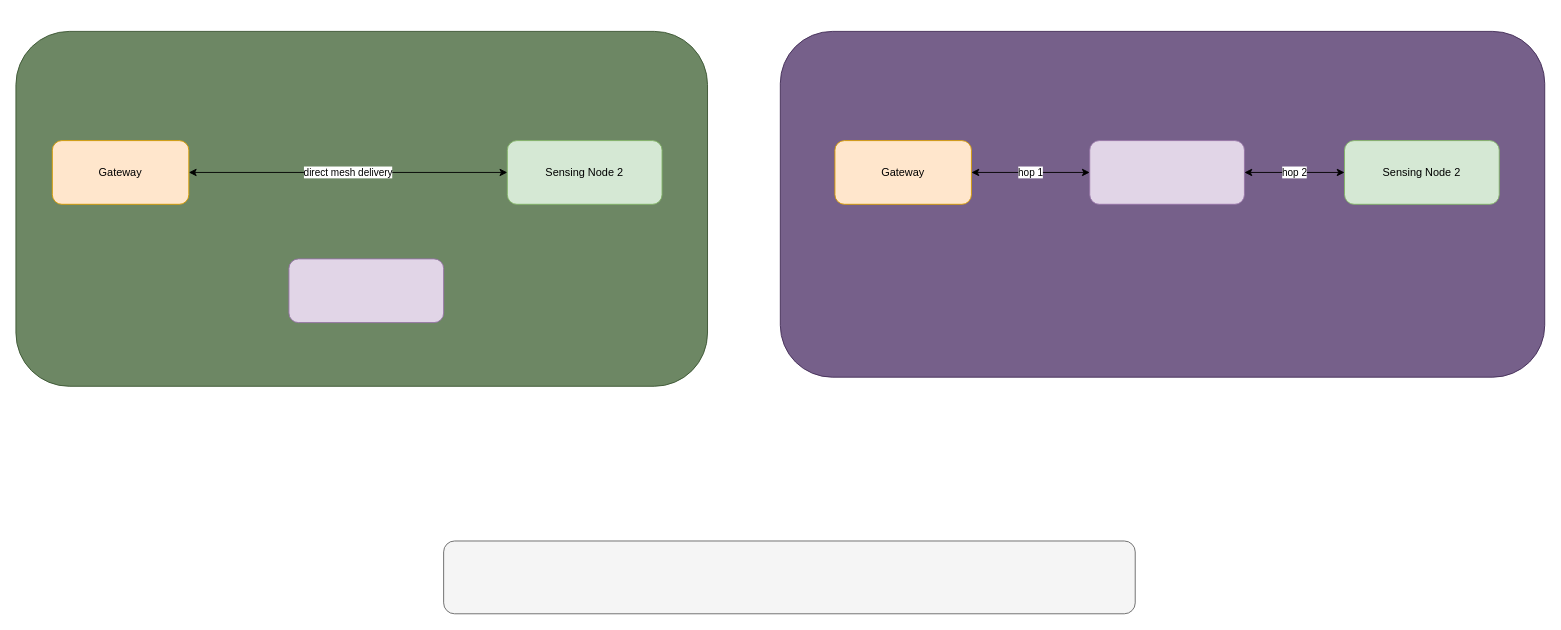
Some shapes in this 1561 by 630 pixel diagram are drawn without their labels. Each missing label, with the centre of its shape:
"Relay (active hop)" belongs at (x=1166, y=172).
"Relay (idle/optional)" belongs at (x=366, y=290).
"Relay improves range/resilience but is not required on every packet." belongs at (x=789, y=577).
